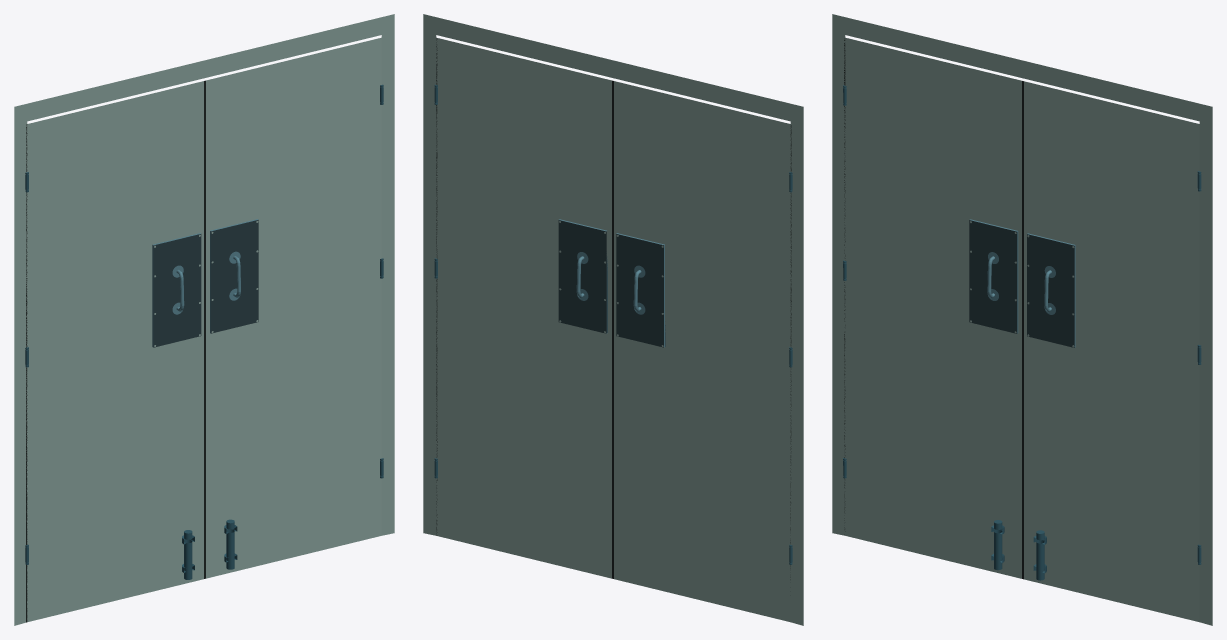
The model's file is PUERTA ENTRADA.fbx.
3 renders of one model, left to right at view 1: azimuth 30°, elevation 25°; view 2: azimuth 150°, elevation 25°; view 3: azimuth 330°, elevation 25°, orthographic.
Parts seen in each view (by area): view 1: Cube.009, Cube.010; view 2: Cube.009, Cube.010; view 3: Cube.009, Cube.010.
Part boxes in pixels (x1,y1,x2,y2): Cube.009: [14, 14, 394, 625]; Cube.010: [204, 37, 383, 578]; Cube.009: [423, 14, 803, 625]; Cube.010: [434, 37, 613, 578]; Cube.009: [832, 14, 1212, 625]; Cube.010: [1022, 81, 1201, 622].
Size of the model in its own units: 590 by 770 by 35.63.
